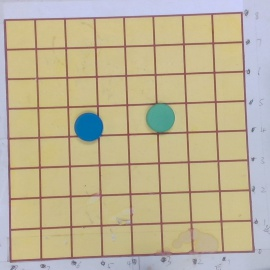blue: (74, 112, 104, 143)
green: (146, 103, 176, 133)
